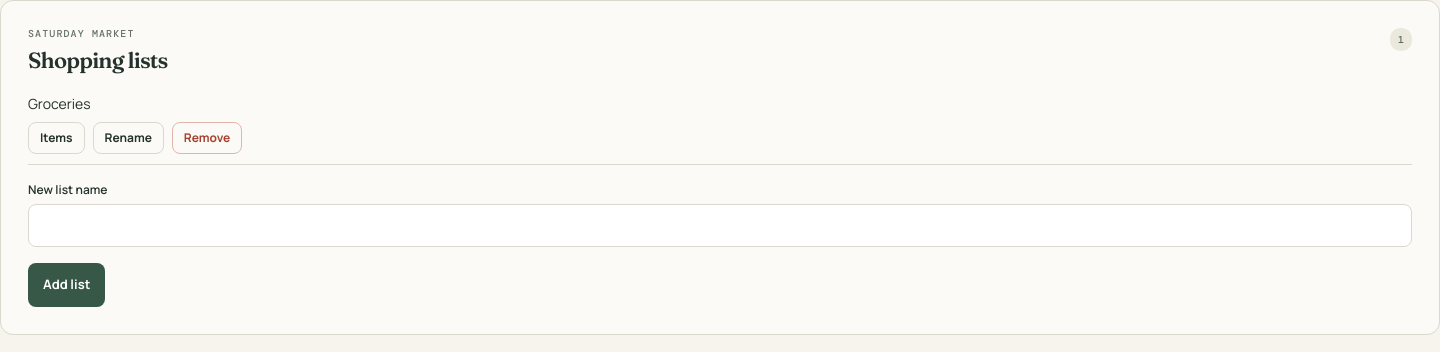
ShoppingListsPanel › deletes a shopping list
What coordinates should you click on to do the following:
click the button with aria-label "remove groceries"
I would click on:
 (207, 138)
Its box is [172,122,242,154].
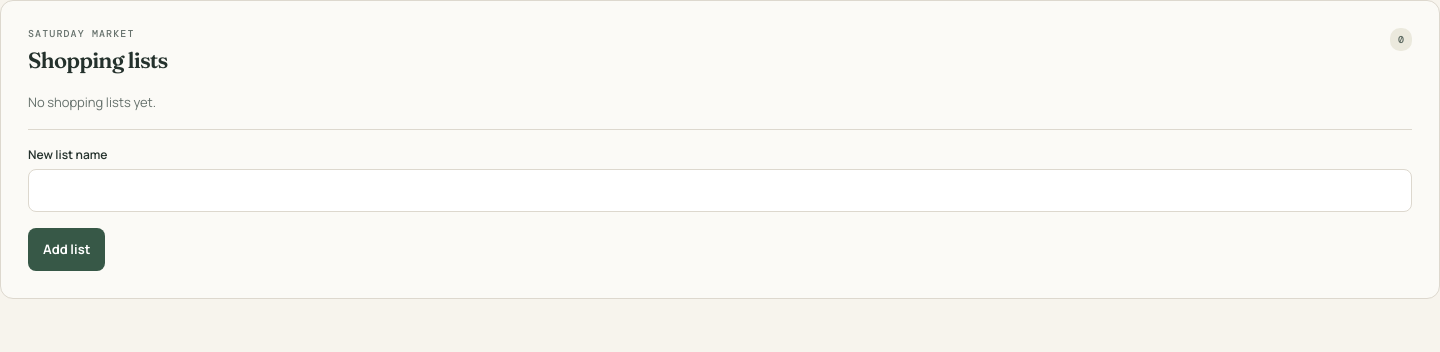
Expected: the text "Groceries" is gone
